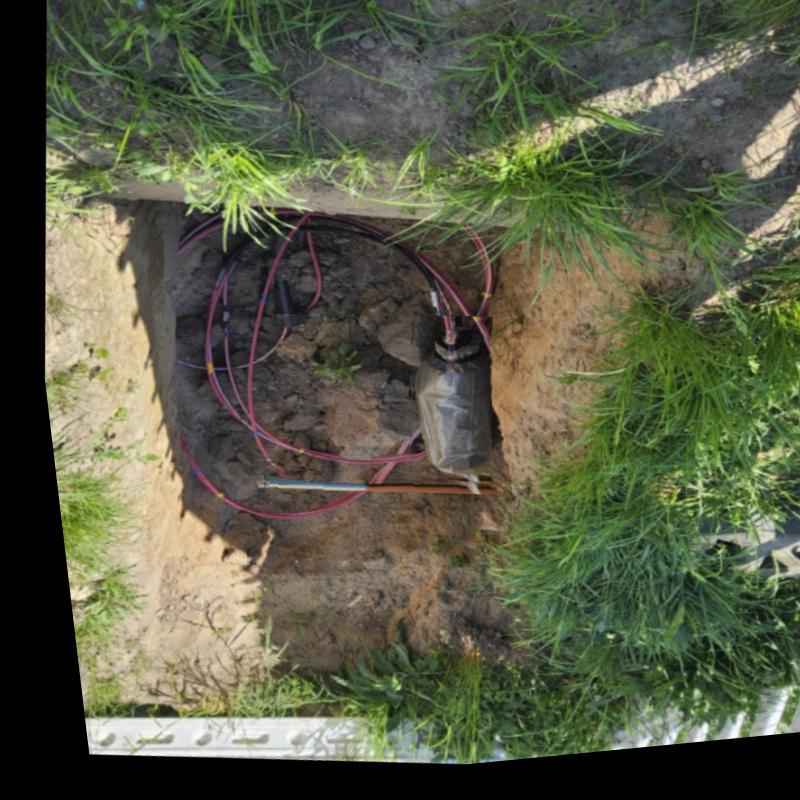NT-Muffen: (400, 324, 481, 496)
Orang-Speednetrohrchen: (242, 474, 489, 501)
